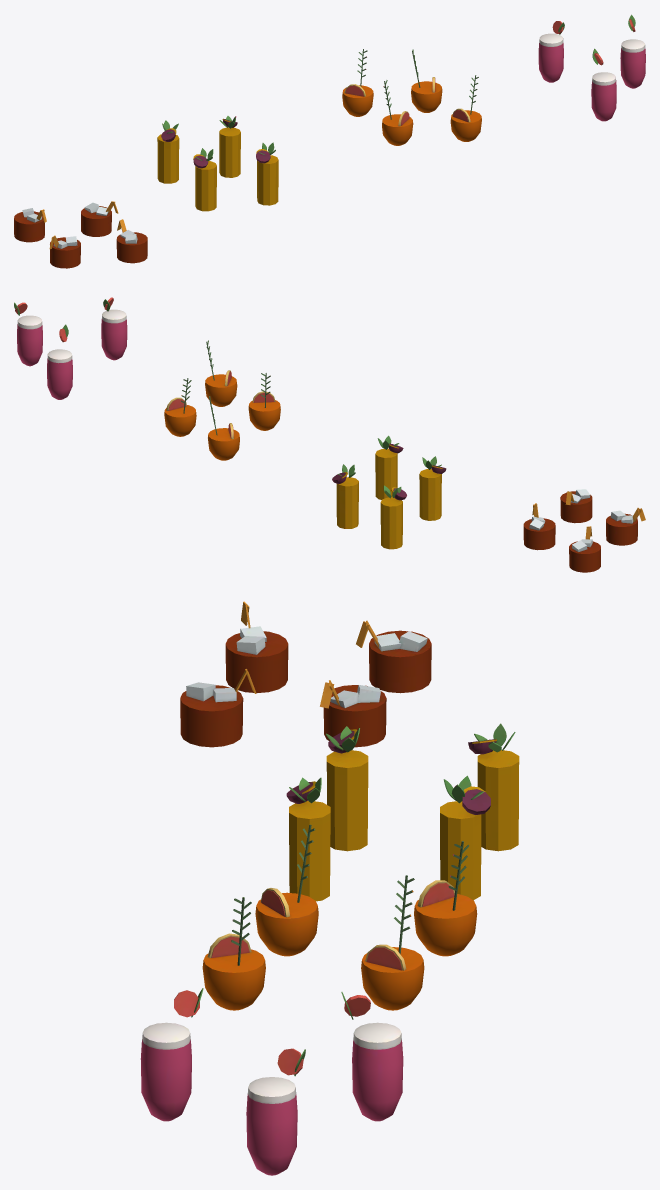
Rendered from cocktail_drinks.glb.
3 views of the same model, one above another, from view 1: azimuth 30°, elevation 25°; view 2: azimuth 150°, elevation 25°; view 3: azimuth 270°, elevation 25° (orthographic). The views are drawn at different scales.
Parts seen in each view (by area): view 1: cocktail_drinks; view 2: cocktail_drinks; view 3: cocktail_drinks.
Boxes of the visible parts, left/top/right/bottom form: cocktail_drinks: left=14, top=14, right=645, bottom=268; cocktail_drinks: left=14, top=297, right=645, bottom=572; cocktail_drinks: left=140, top=601, right=519, bottom=1175.
Bounding box in the file's own units: 1.84 × 0.2897 × 0.5016.
1 material, 1 textured.
